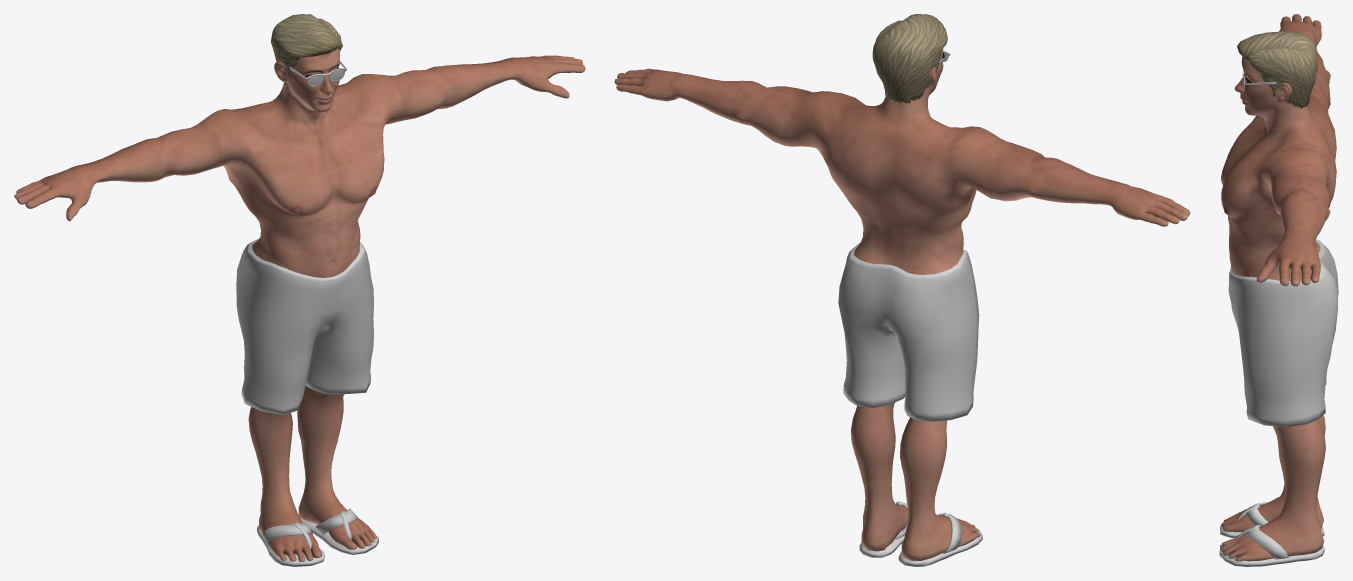
File: biftekpastasi.obj
The picture shows the model from 3 angles, left to right: view 1: azimuth 30°, elevation 25°; view 2: azimuth 150°, elevation 25°; view 3: azimuth 270°, elevation 25°; orthographic projection. The views are drawn at different scales.
Parts seen in each view (by area): view 1: Body, Bottoms, Hair, Shoes; view 2: Body, Bottoms, Hair, Shoes; view 3: Body, Bottoms, Hair, Shoes.
Boxes of the visible parts, x1,y1,x2,y2 form: Body: (14,48,585,561); Bottoms: (236,239,373,415); Hair: (270,14,342,84); Shoes: (257,508,378,566); Body: (614,48,1190,560); Bottoms: (838,242,979,421); Hair: (872,14,947,103); Shoes: (859,501,982,566); Body: (1221,14,1336,561); Bottoms: (1228,239,1338,427); Hair: (1237,31,1317,108); Shoes: (1219,502,1324,566).
Bounding box in the file's own units: 199 × 175 × 37.09.
